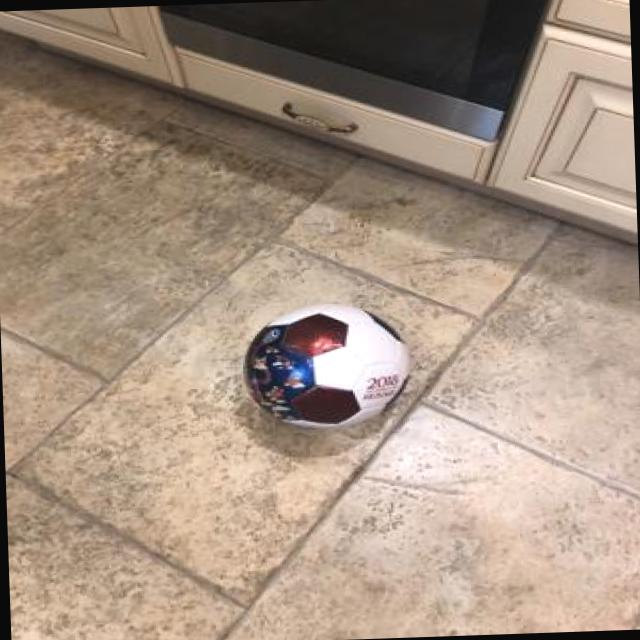Soccer Ball: (234, 296, 415, 434)
